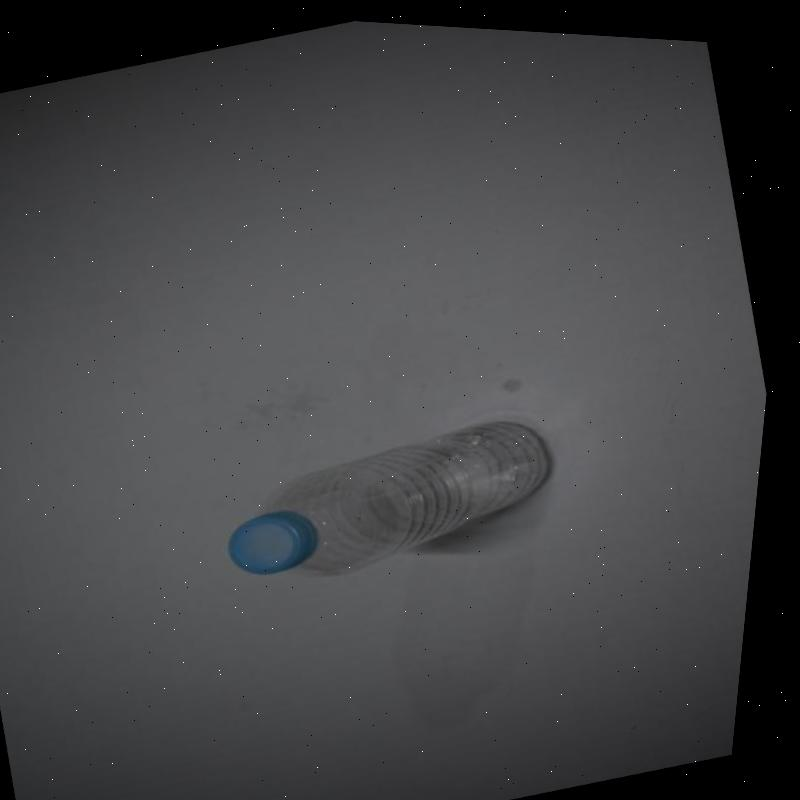botella: (221, 388, 585, 608)
